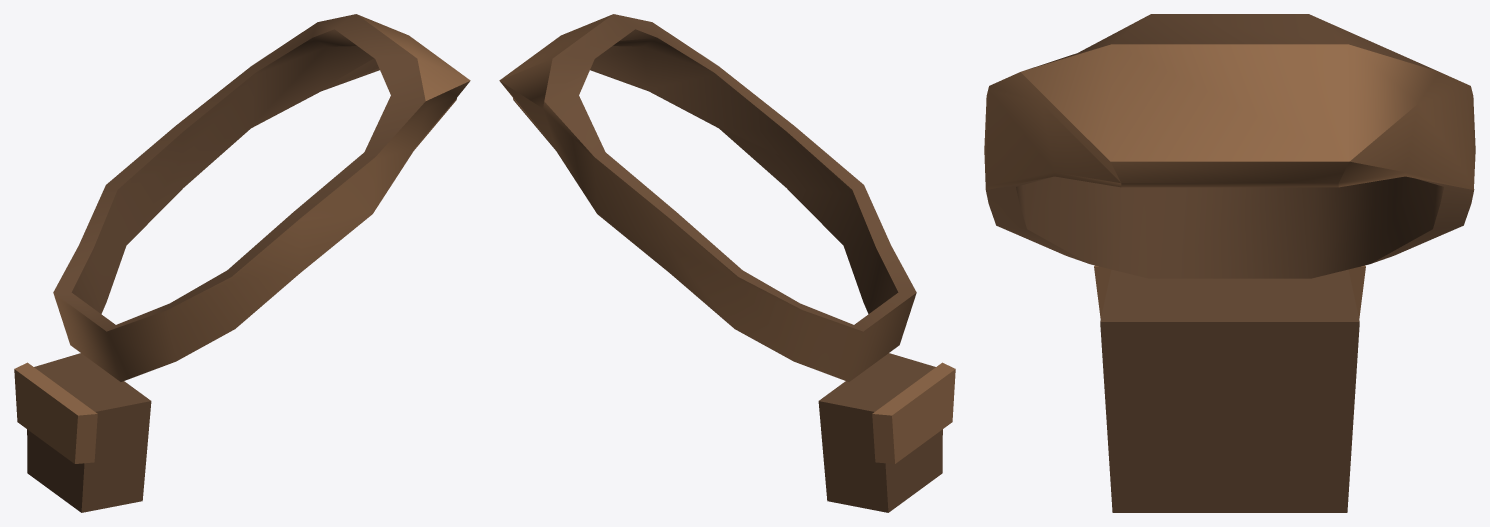
Rendered from person_hulk_bandolier.obj.
3 views of the same model, side by side, from view 1: azimuth 30°, elevation 25°; view 2: azimuth 150°, elevation 25°; view 3: azimuth 270°, elevation 25° (orthographic). The views are drawn at different scales.
Visible parts, largest first — view 1: person_hulk_bandolier; view 2: person_hulk_bandolier; view 3: person_hulk_bandolier.
Part boxes in pixels (left/top/right/bottom): person_hulk_bandolier: left=14, top=14, right=470, bottom=512; person_hulk_bandolier: left=499, top=14, right=955, bottom=512; person_hulk_bandolier: left=984, top=14, right=1475, bottom=512.
Bounding box in the file's own units: 0.7129 × 0.65 × 0.3974.
